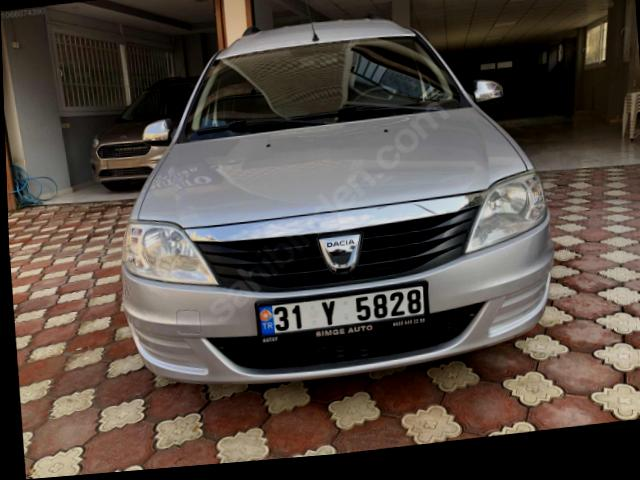plaka: (258, 285, 429, 337)
